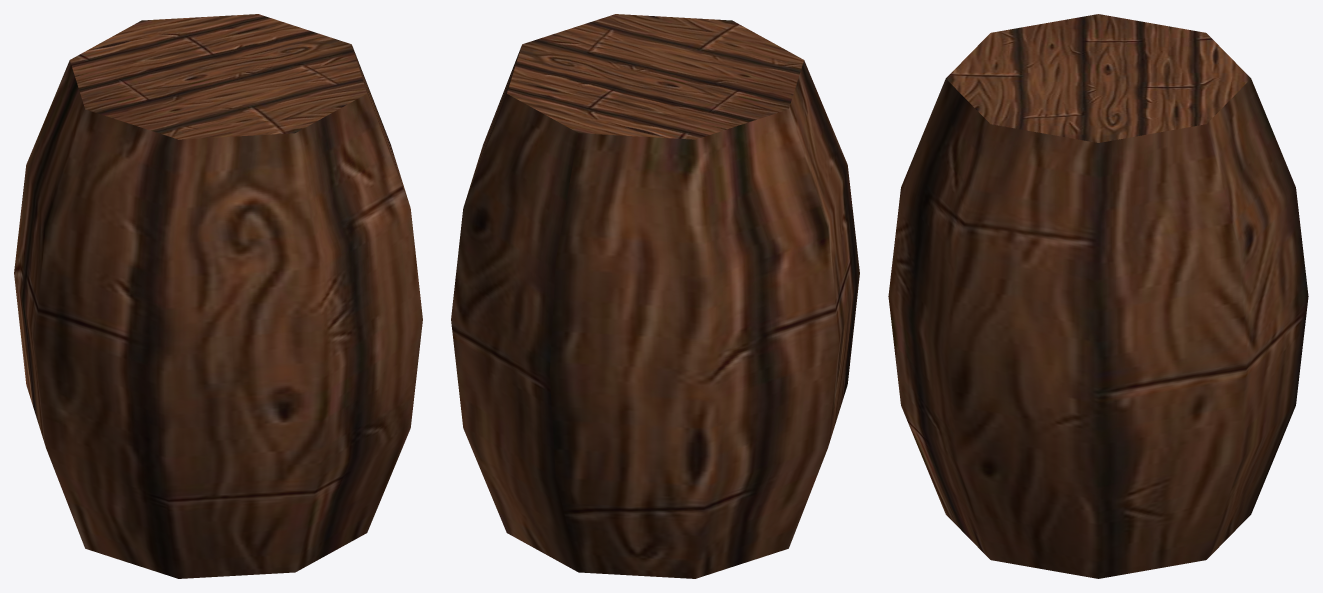
The model's file is barrel.glb.
The picture shows the model from 3 angles, left to right: view 1: azimuth 30°, elevation 25°; view 2: azimuth 150°, elevation 25°; view 3: azimuth 270°, elevation 25°; orthographic projection.
Visible parts, largest first — view 1: Barrel; view 2: Barrel; view 3: Barrel.
Part boxes in pixels (x1,y1,x2,y2): Barrel: (14,14,422,578); Barrel: (451,14,859,578); Barrel: (888,14,1308,578).
Size of the model in its own units: 86.7 by 99.27 by 86.7.
1 material, 1 textured.
